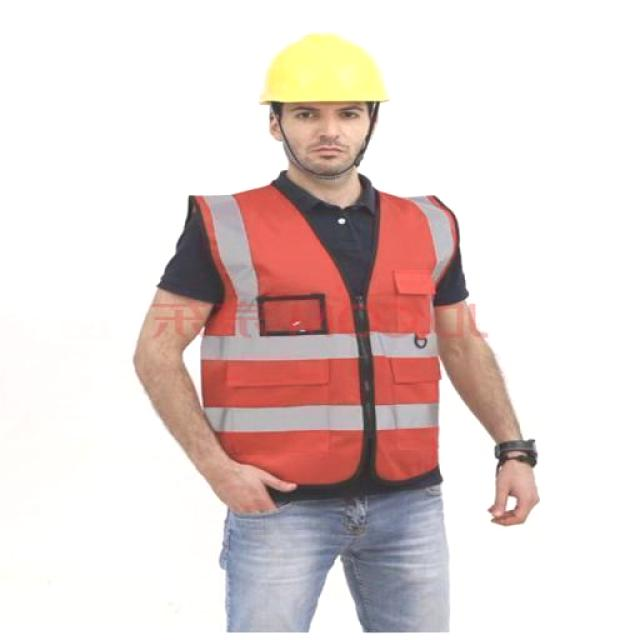face_nomask: (284, 99, 368, 171)
hand_noglove: (480, 456, 548, 533)
head_helmet: (251, 28, 399, 108)
person: (127, 12, 554, 640)
vest: (166, 168, 484, 507)
